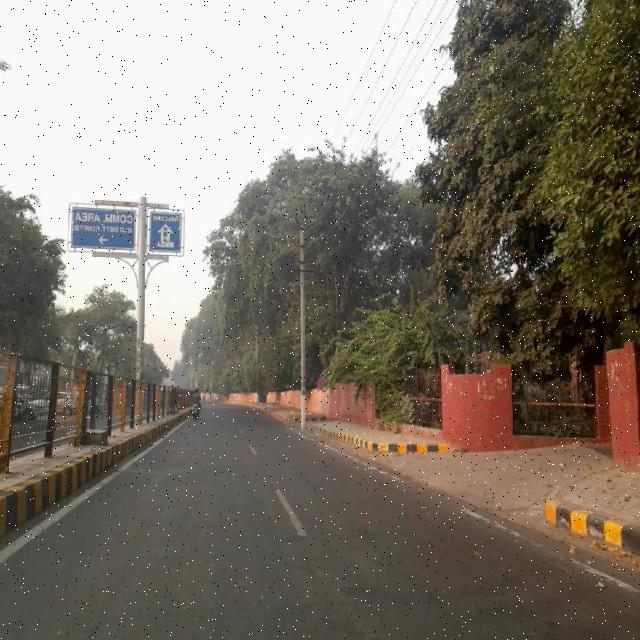D44: (531, 540, 638, 590), (418, 487, 525, 537), (307, 434, 414, 484)
